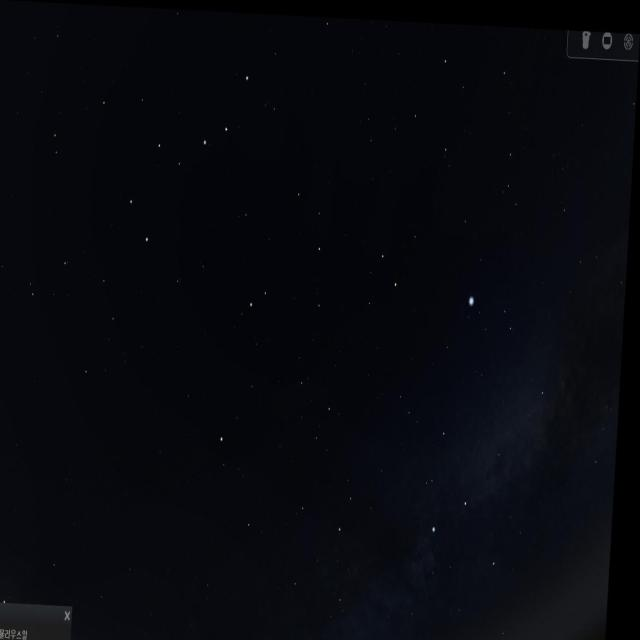cygnus: (429, 367, 557, 589)
lyra: (468, 275, 531, 355)
ursa_major: (122, 63, 262, 255)
